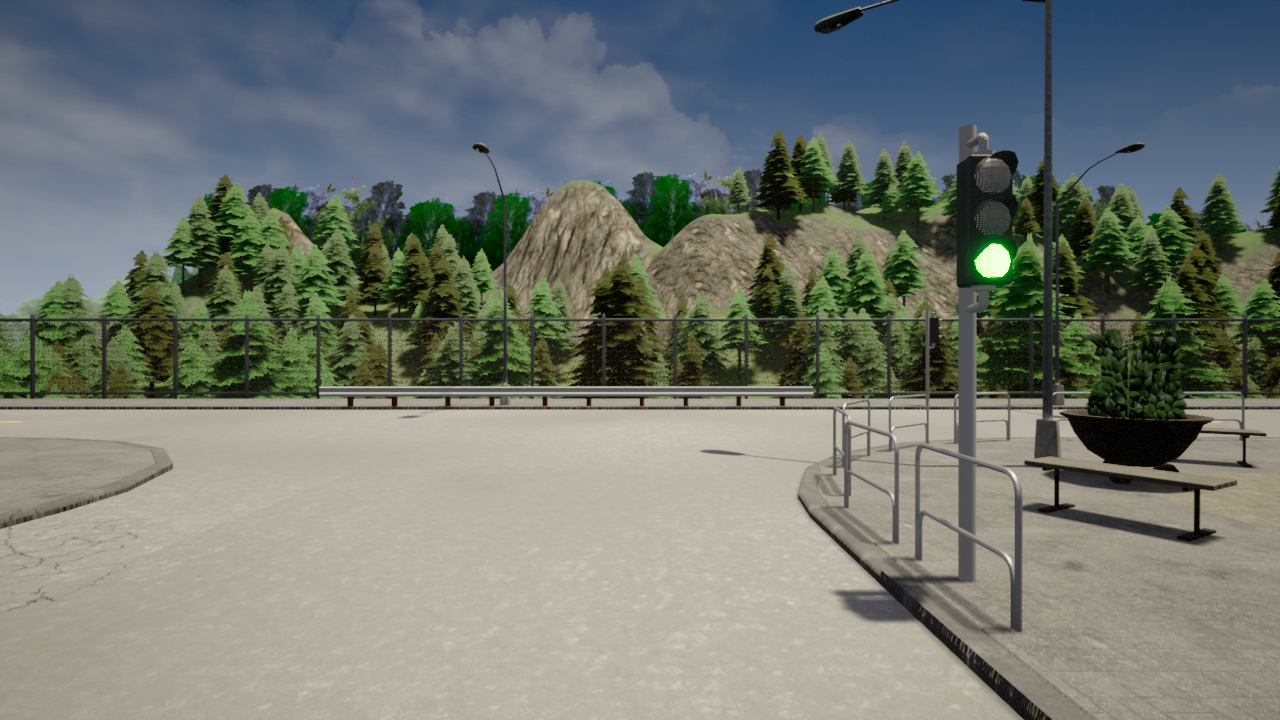green: (958, 150, 1020, 286)
